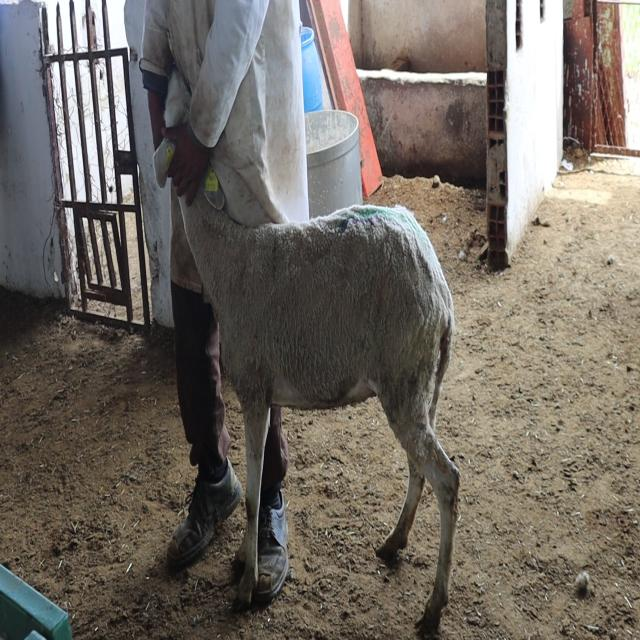Score_1: (179, 163, 460, 636)
